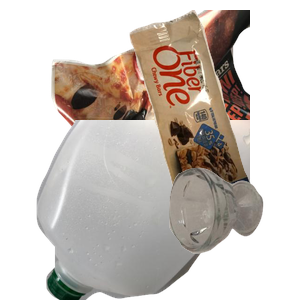glass: (166, 165, 300, 300)
paper: (49, 10, 289, 190)
plastic: (34, 120, 274, 300)
trash: (127, 10, 300, 190)
